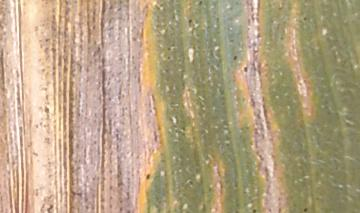tarspot: (230, 51, 240, 66), (240, 63, 251, 76), (248, 204, 261, 213), (185, 16, 196, 26), (143, 171, 152, 183), (301, 204, 309, 213)
